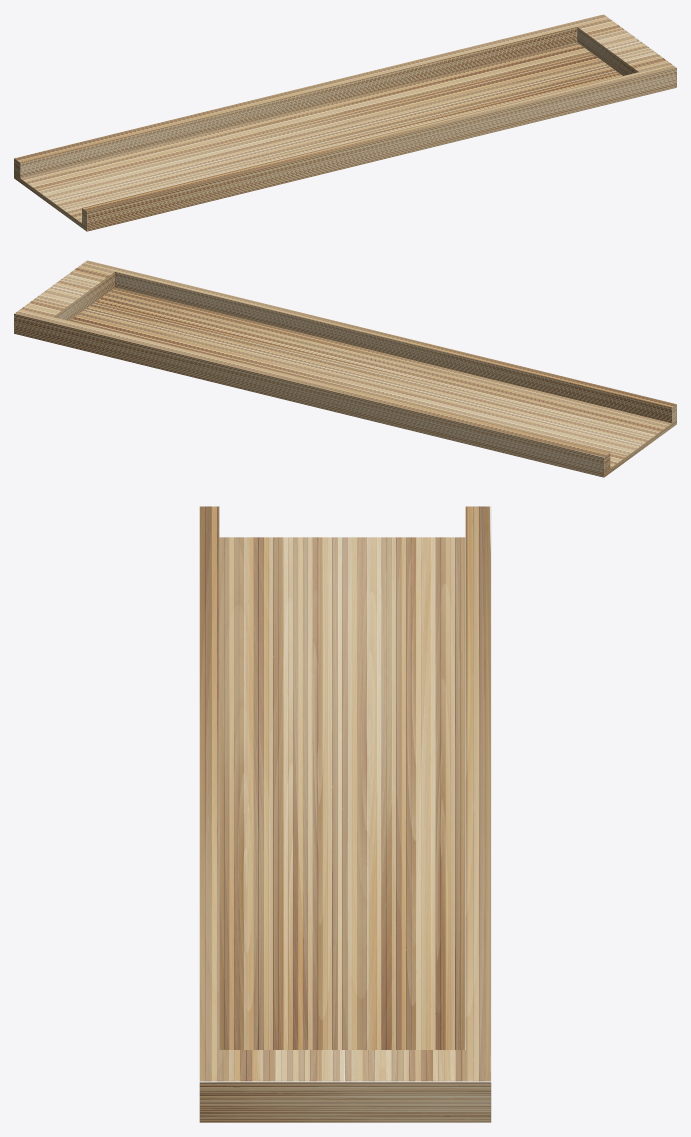
File: BowlingAlley.fbx
The picture shows the model from 3 angles, top to bottom: view 1: azimuth 30°, elevation 25°; view 2: azimuth 150°, elevation 25°; view 3: azimuth 270°, elevation 25°; orthographic projection. The views are drawn at different scales.
Visible parts, largest first — view 1: BowlingAlley; view 2: BowlingAlley; view 3: BowlingAlley.
Part boxes in pixels (x1=…): BowlingAlley: x1=14, y1=14, x2=676, y2=231; BowlingAlley: x1=14, y1=260, x2=676, y2=477; BowlingAlley: x1=199, y1=506, x2=491, y2=1122.
Bounding box in the file's own units: 105 × 3.41 × 22.42.
Materials: 1 (1 with a texture image).
